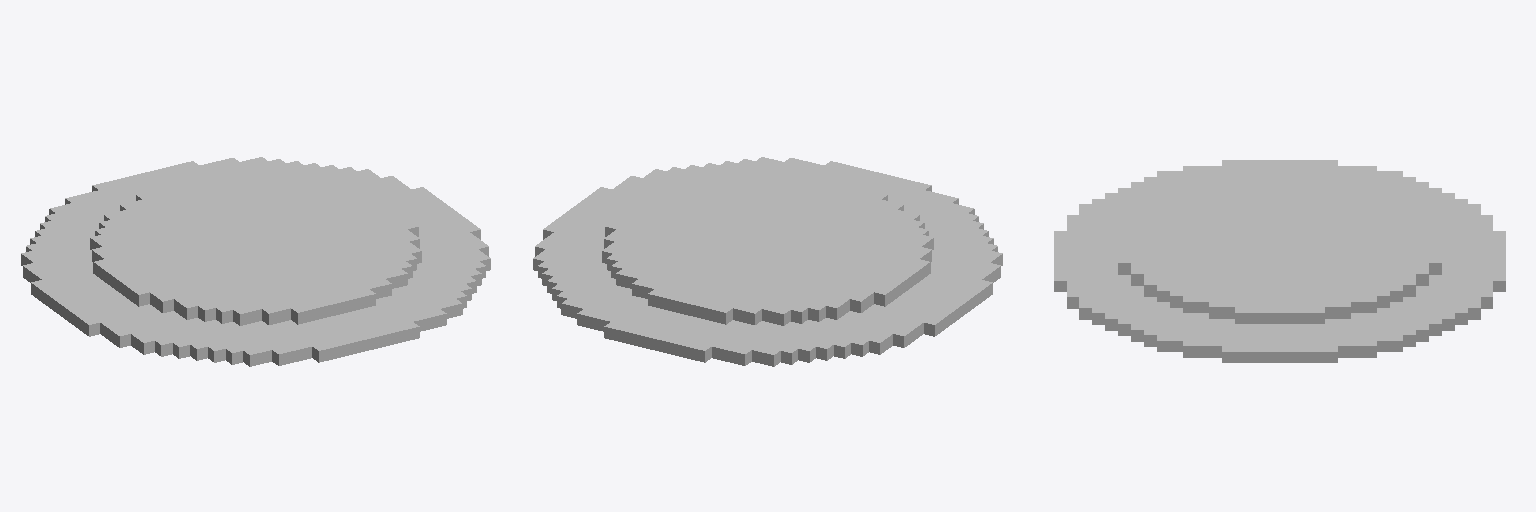
The model's file is Ard mdwra.obj.
3 views of the same model, side by side, from view 1: azimuth 30°, elevation 25°; view 2: azimuth 150°, elevation 25°; view 3: azimuth 270°, elevation 25° (orthographic).
Parts seen in each view (by area): view 1: object 1; view 2: object 1; view 3: object 1.
Boxes of the visible parts, box(x1,y1,x2,y2) form: object 1: box(21, 157, 490, 366); object 1: box(533, 157, 1002, 366); object 1: box(1054, 160, 1505, 362).
Bounding box in the file's own units: 3.5 × 0.2 × 3.5.